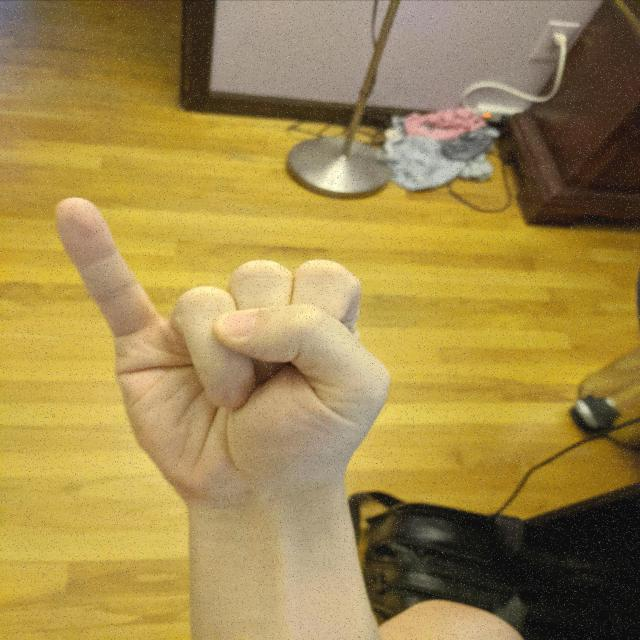I: (48, 192, 400, 516)
